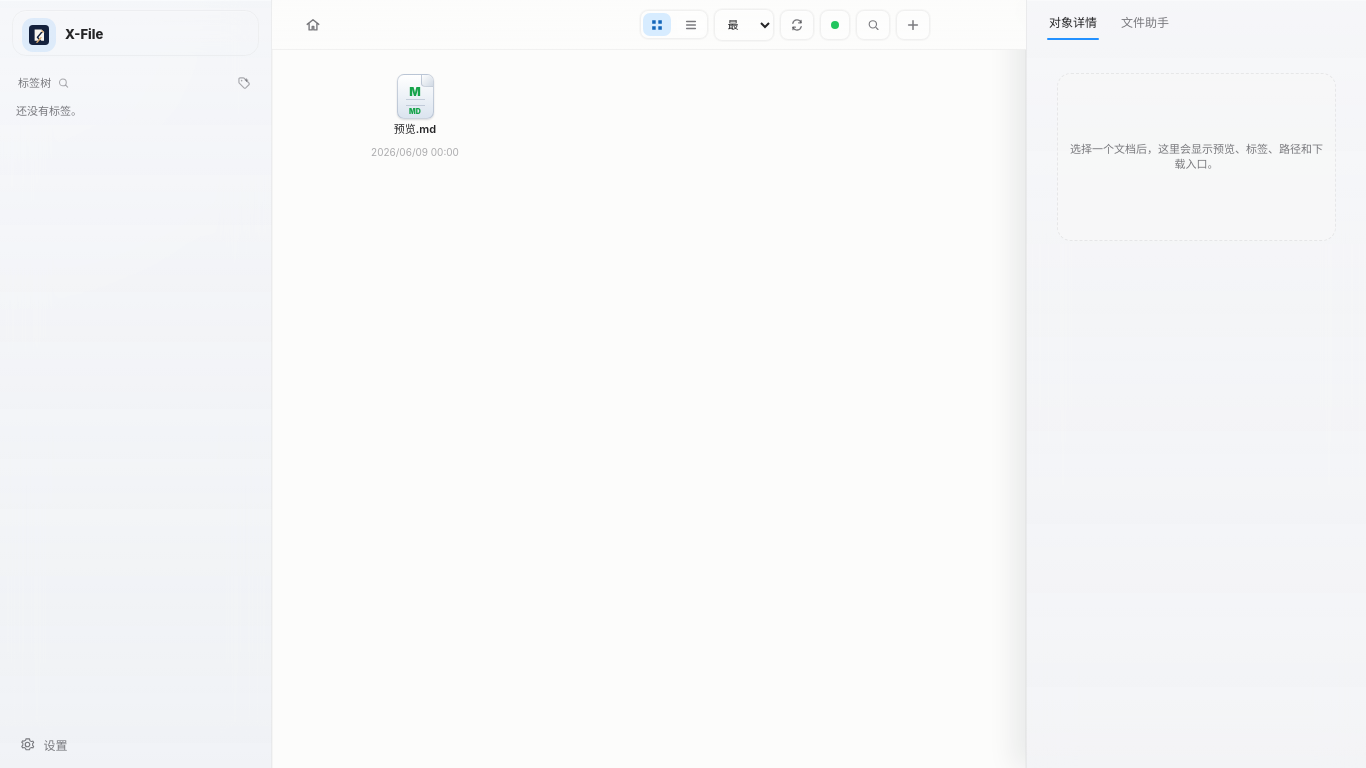
Test: 第 1 批：文档预览、编辑写回、Office 阅读视图与目录详情 › 双击文档会复用文件预览工具，并走文档库默认预览接口
Double-click the button "M MD 预览.md 2026/06/09 00:00" at (415, 116), box [361, 66, 469, 166]
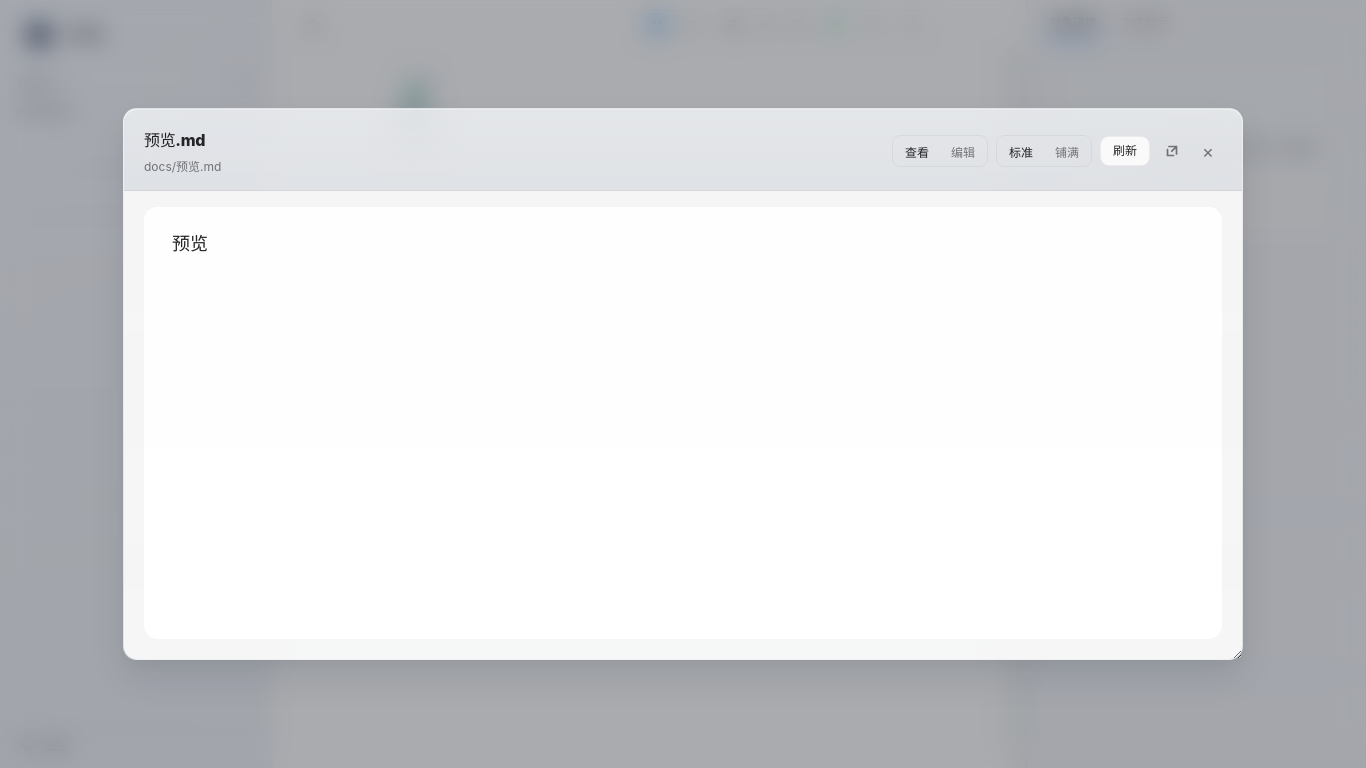
Now the dialog "预览.md" is shown, box [123, 108, 1243, 660]
